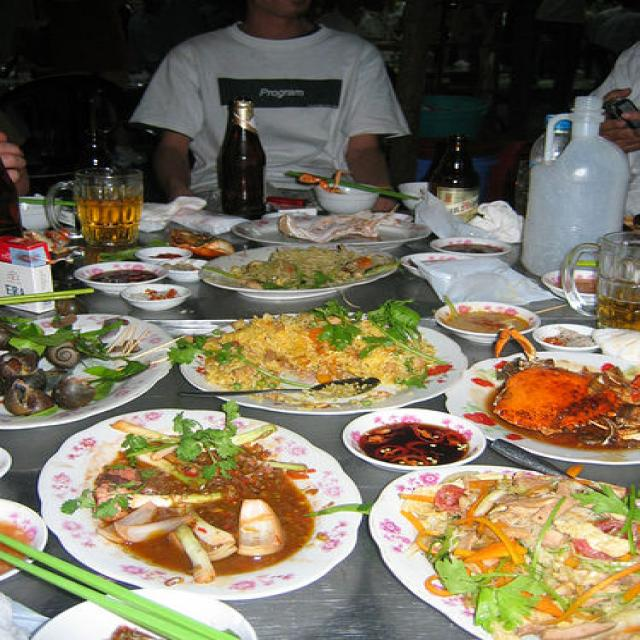bottle: (216, 101, 267, 221), (429, 132, 484, 226)
diningtable: (1, 197, 639, 640)
person: (126, 1, 414, 212)
